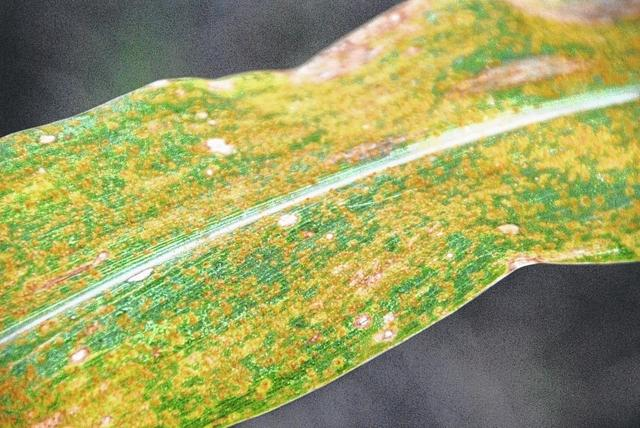Corn rust leaf: (3, 2, 640, 421)
